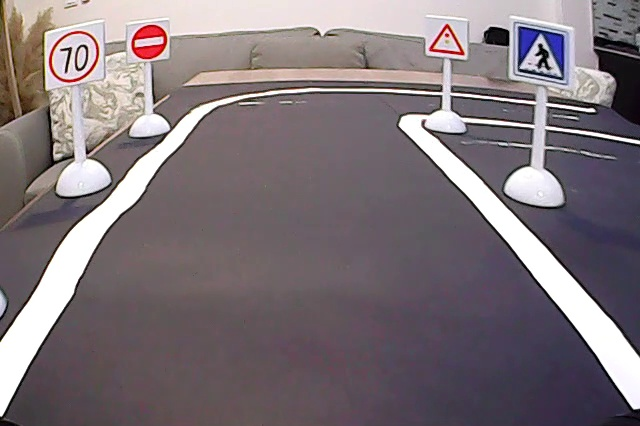do not enter: (127, 20, 169, 64)
pedestrian crossing: (511, 19, 570, 84)
red light: (427, 19, 470, 60)
speed limit 70: (47, 29, 102, 87)
